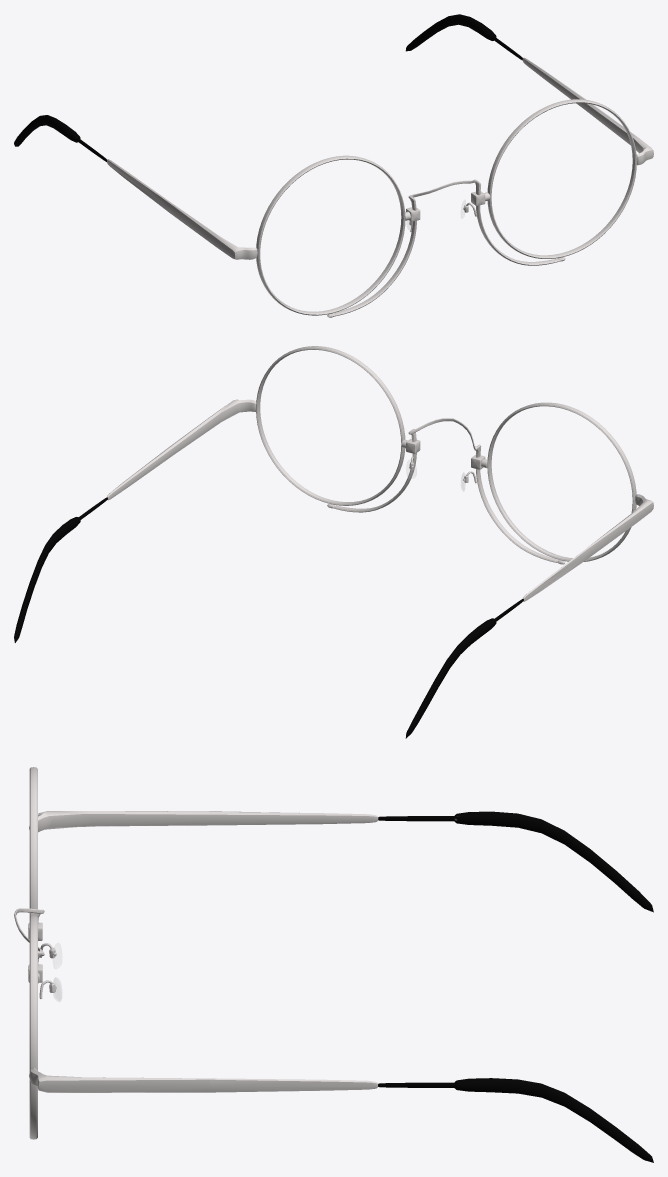
The model's file is glasses (21).glb.
The picture shows the model from 3 angles, top to bottom: view 1: azimuth 30°, elevation 25°; view 2: azimuth 150°, elevation 25°; view 3: azimuth 270°, elevation 25°; orthographic projection. The views are drawn at different scales.
Parts seen in each view (by area): view 1: Cylinder; view 2: Cylinder; view 3: Cylinder.
Part boxes in pixels (x1,y1,x2,y2): Cylinder: (14, 14, 653, 317); Cylinder: (14, 346, 653, 738); Cylinder: (14, 767, 653, 1162).
Size of the model in its own units: 592 by 212 by 589.
1 material, 1 textured.
